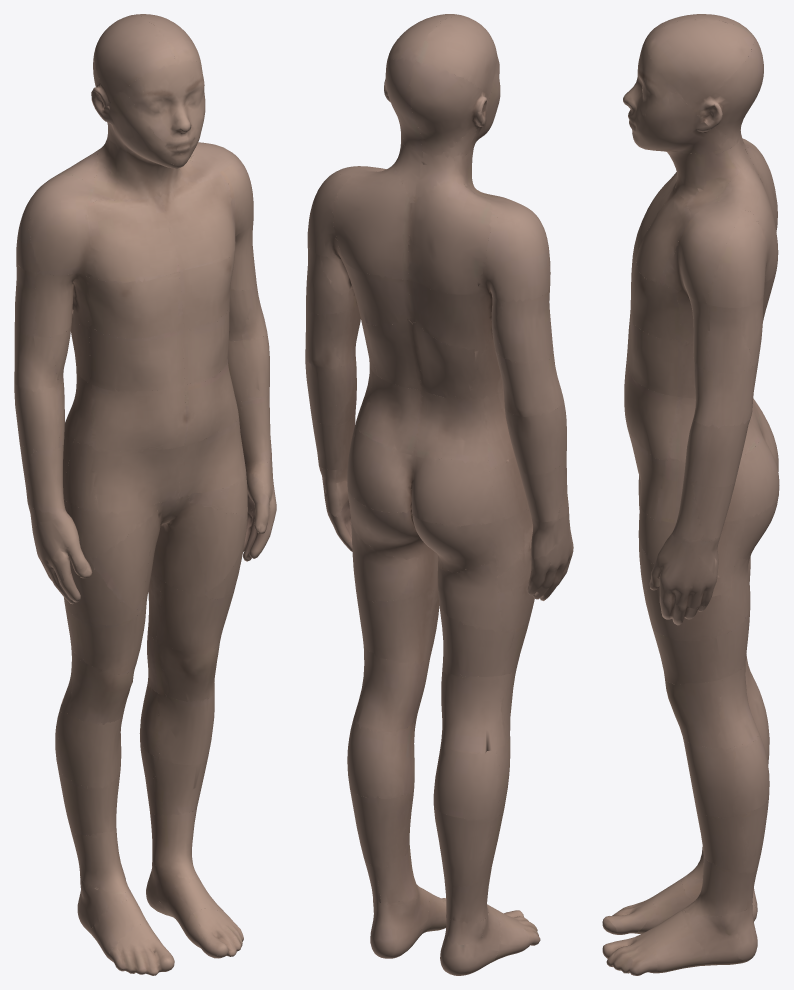
Rendered from PATIENT_BodySkin.glb.
The picture shows the model from 3 angles, left to right: view 1: azimuth 30°, elevation 25°; view 2: azimuth 150°, elevation 25°; view 3: azimuth 270°, elevation 25°; orthographic projection. The views are drawn at different scales.
Visible parts, largest first — view 1: PATIENT_BodySkin; view 2: PATIENT_BodySkin; view 3: PATIENT_BodySkin.
Part boxes in pixels (x1,y1,x2,y2): PATIENT_BodySkin: (14,14,276,975); PATIENT_BodySkin: (305,14,573,975); PATIENT_BodySkin: (602,14,779,975).
Bounding box in the file's own units: 0.5663 × 2 × 0.3456.
Materials: 1 (1 with a texture image).
